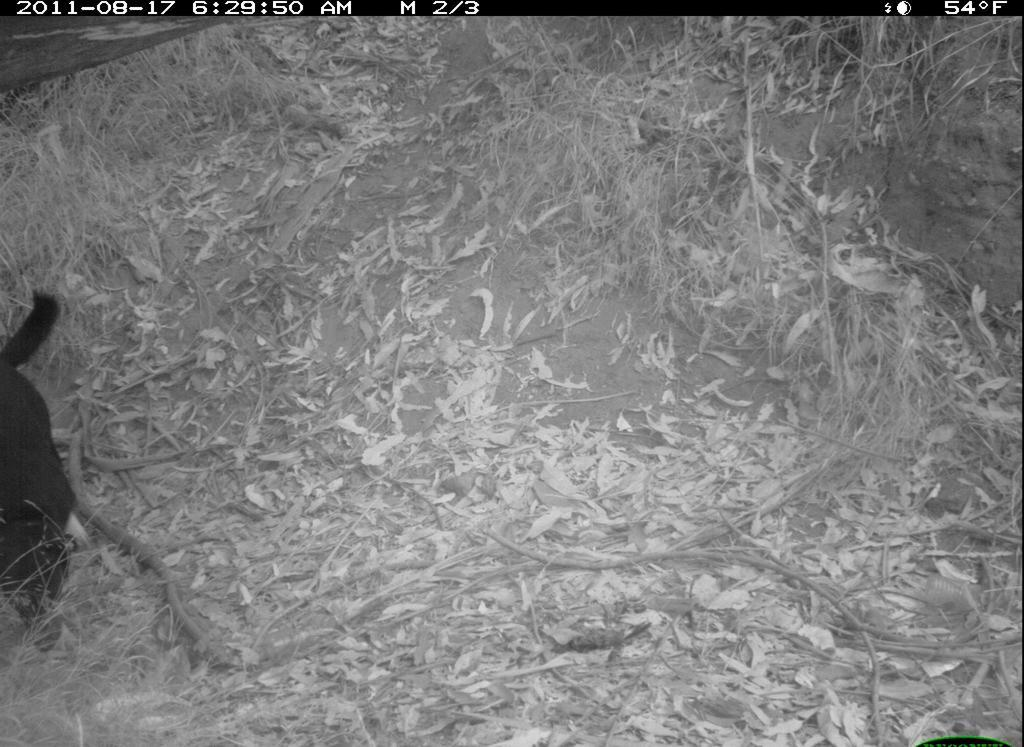dog: (1, 283, 121, 610)
